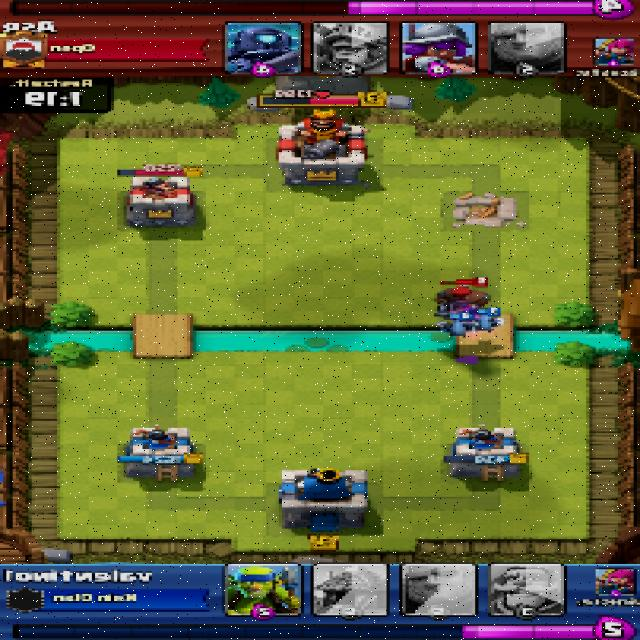Enemy-Hunter: (433, 288, 496, 318)
Enemy-Minion: (439, 318, 474, 337), (473, 314, 505, 331)
